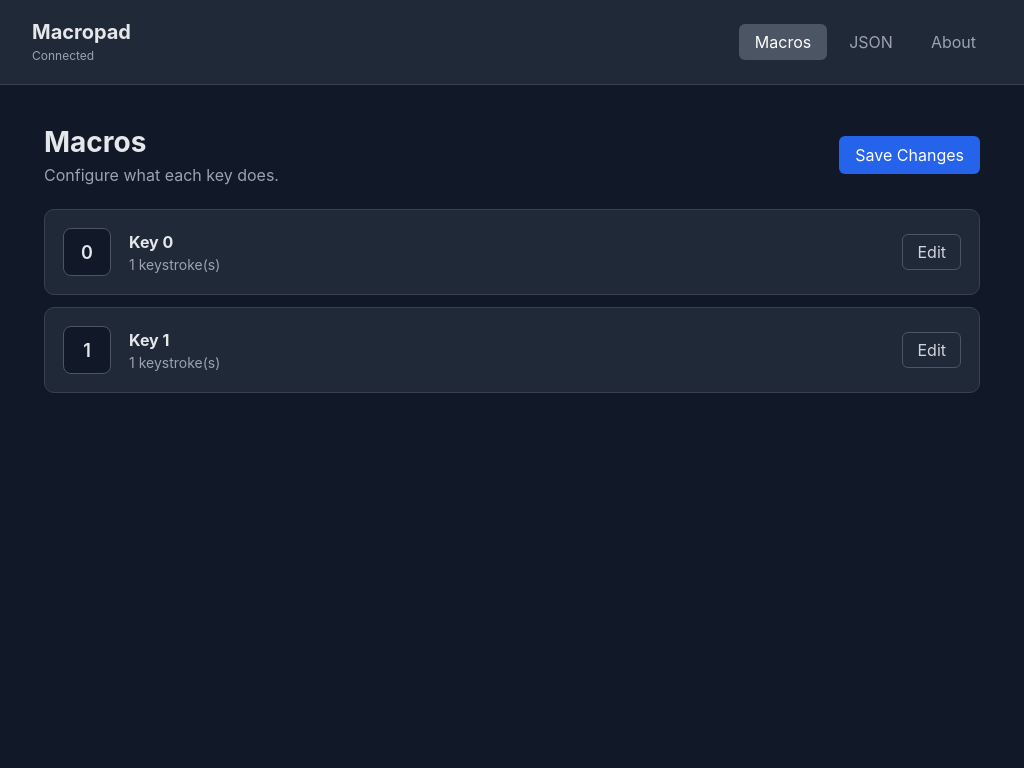
App › navigates back to the Macros page
The image size is (1024, 768).
expect the heading "Macros" is shown: met, box [44, 125, 146, 159]
Click the button "JSON" at (871,42), box [833, 24, 909, 60]
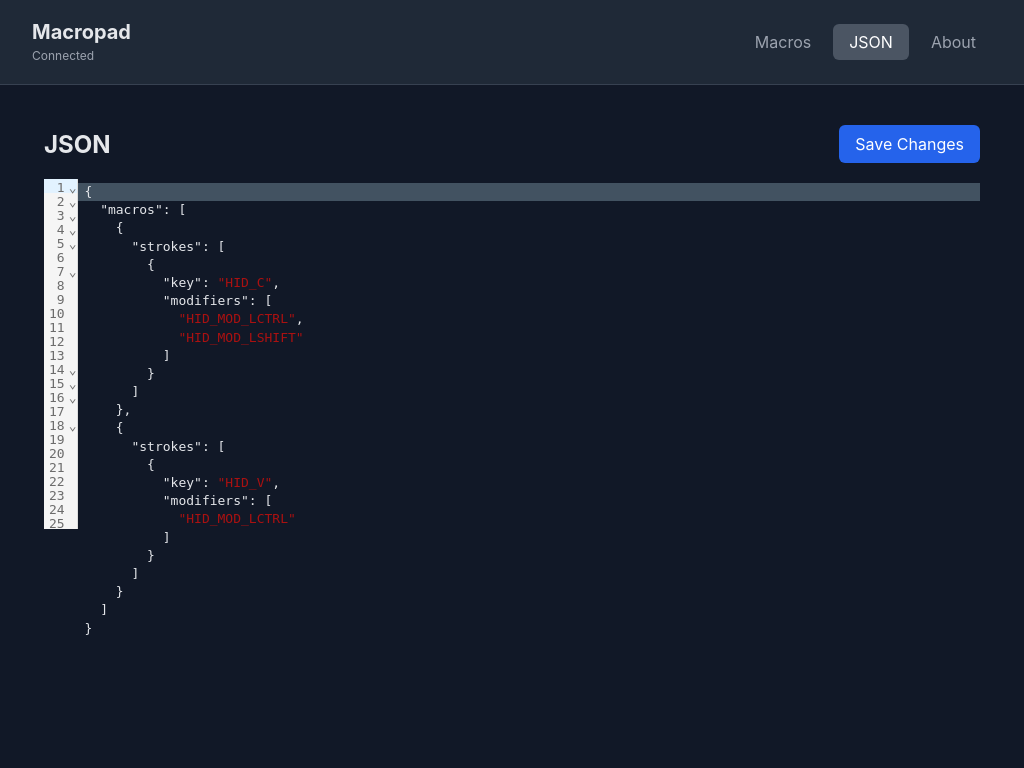
expect the heading "JSON" is shown: met, box [44, 130, 110, 158]
Click the button "Macros" at (783,42), box [739, 24, 827, 60]
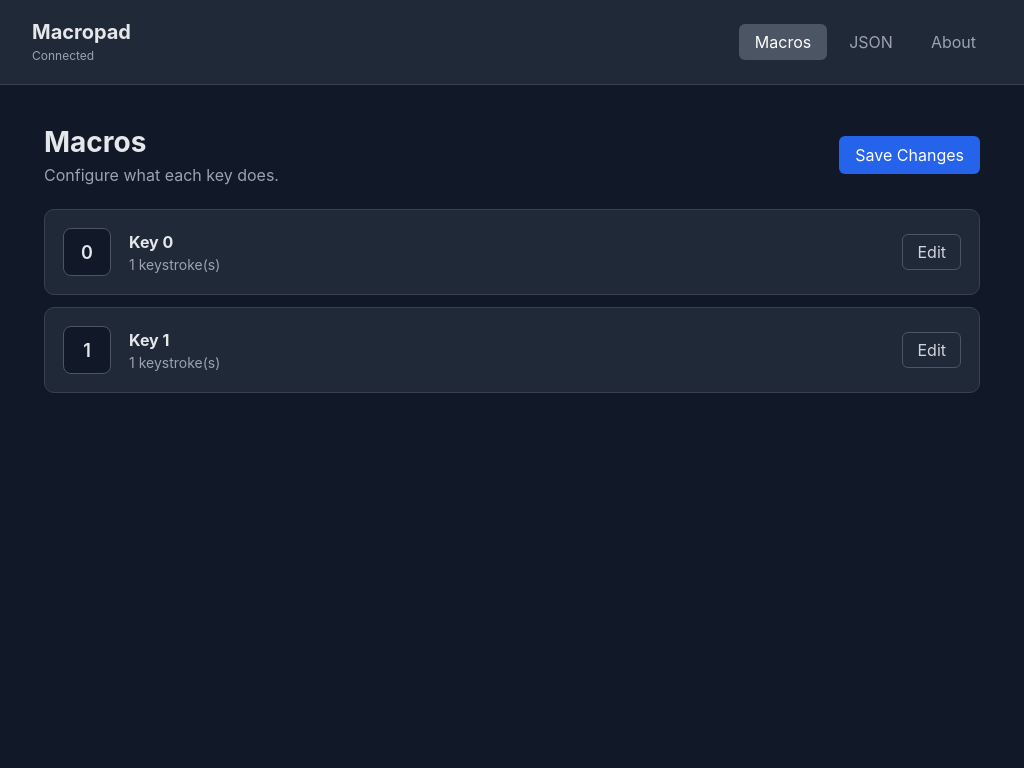
expect the heading "Macros" is shown: met, box [44, 125, 146, 159]
